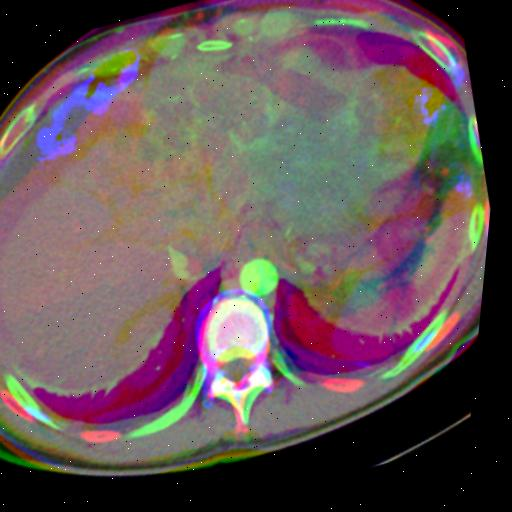Tumor: (147, 61, 275, 159)
